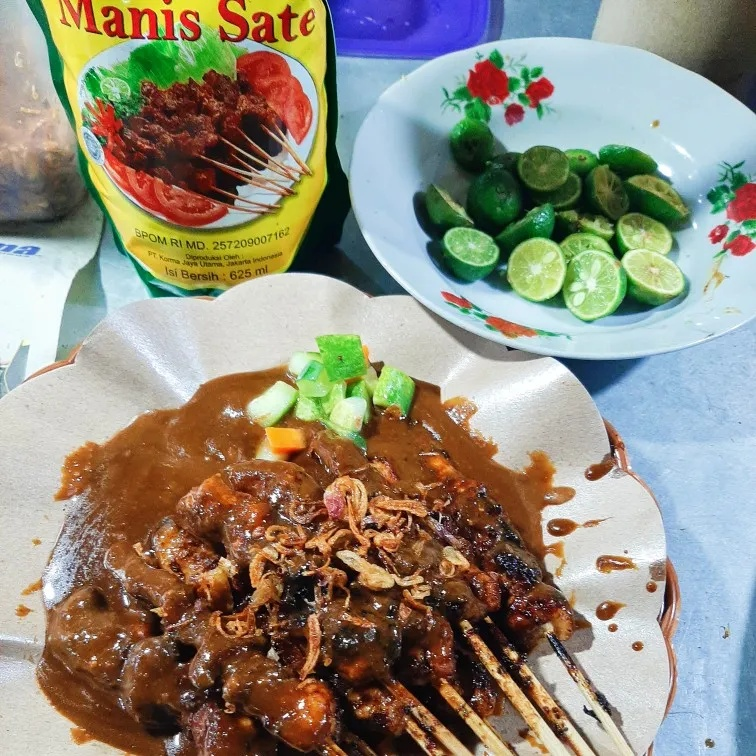sate_madura: (51, 445, 642, 756)
